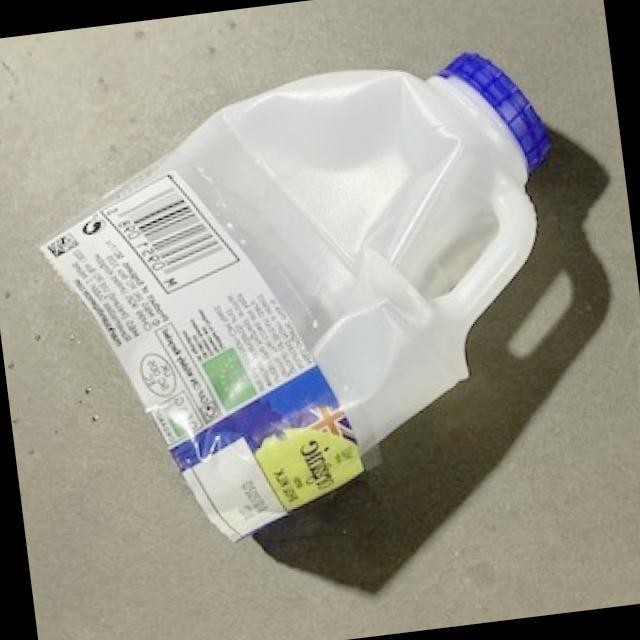HDPE Plastic: (36, 48, 562, 544)
